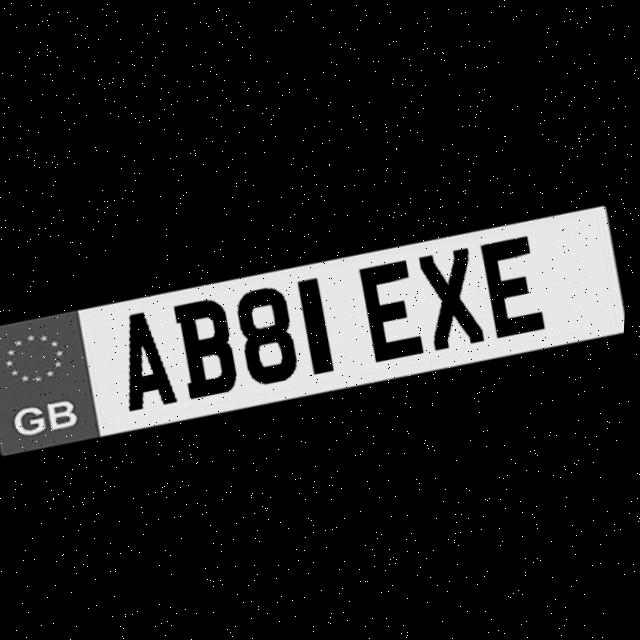license-plates: (0, 202, 625, 455)
